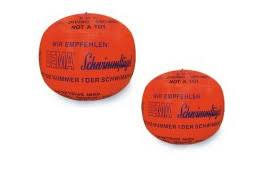buoy: (40, 15, 137, 100), (142, 68, 226, 148)
